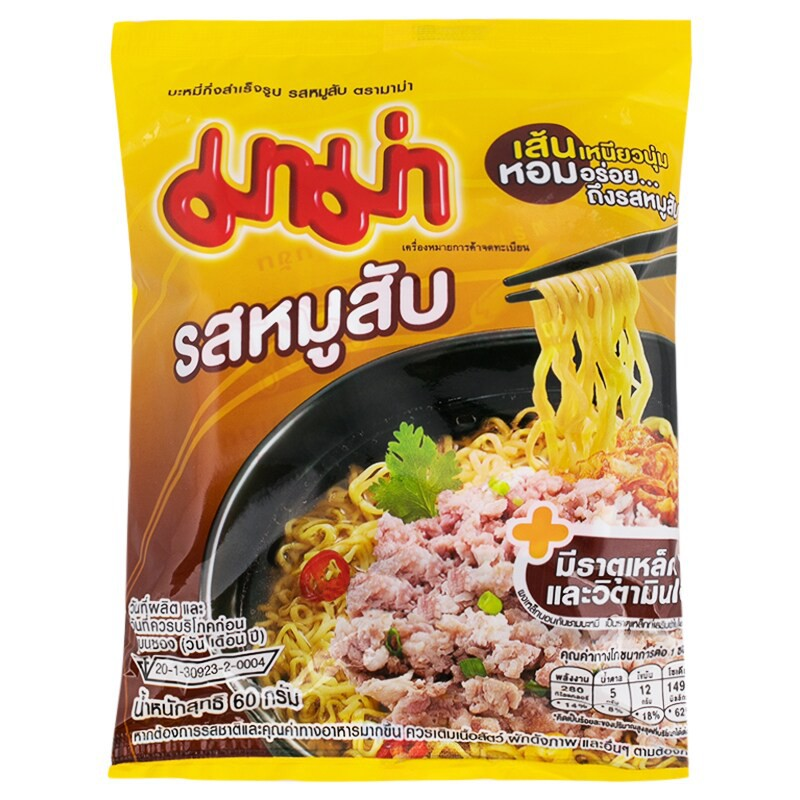Snack: (100, 13, 701, 789)
